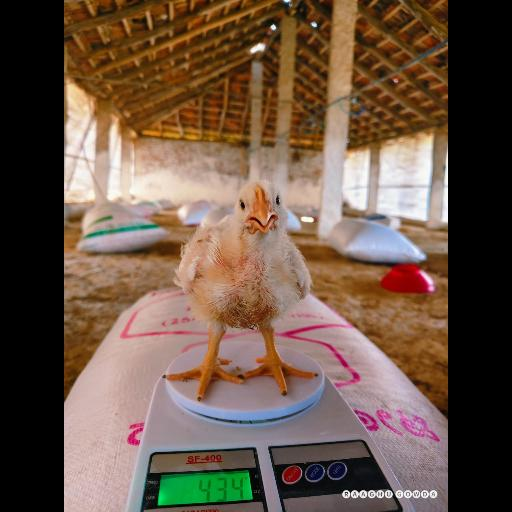chick: (164, 181, 314, 401)
